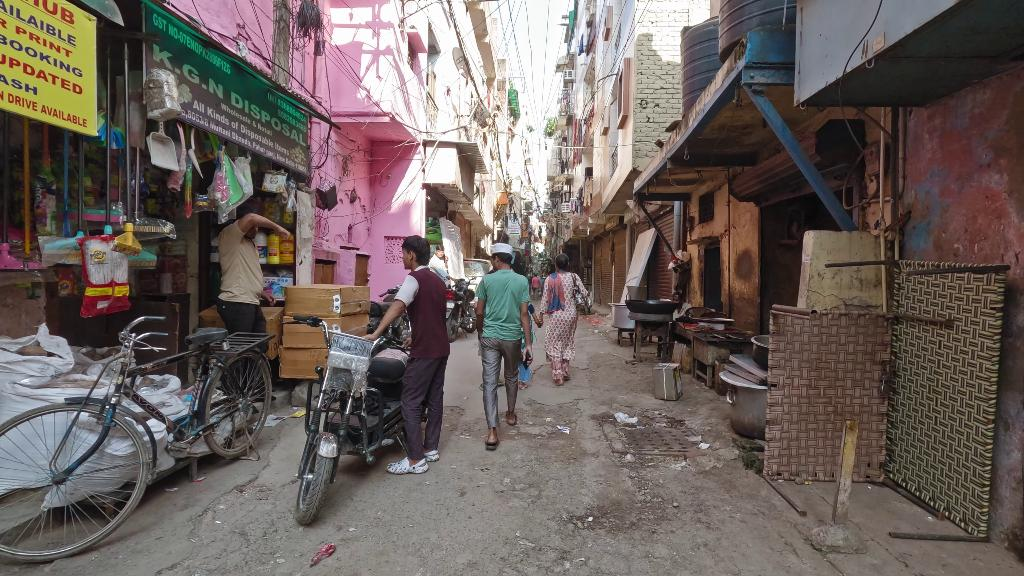garbage: (308, 537, 338, 567), (683, 429, 713, 455), (611, 407, 640, 428), (556, 420, 572, 437)
